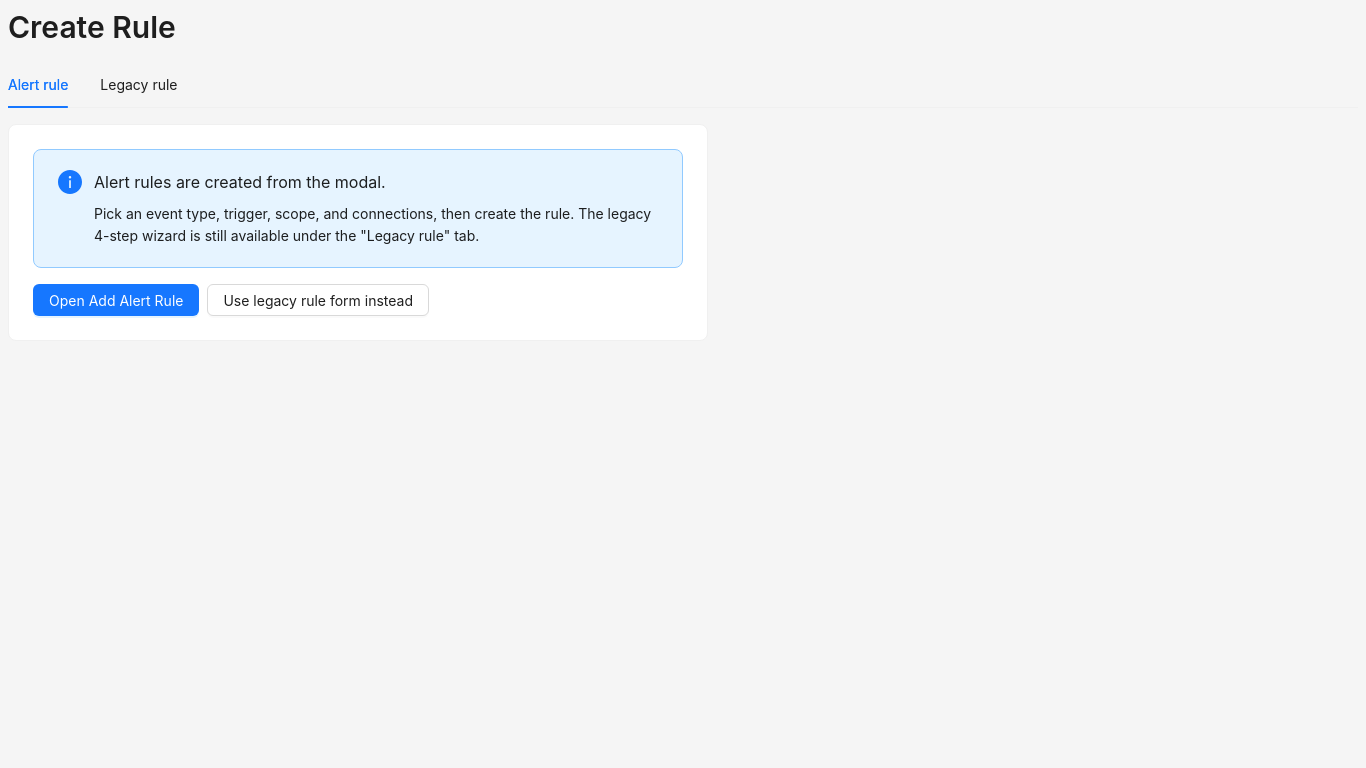
Test: RuleEditor › renders Next button on first step of the legacy wizard
Click the tab "Legacy rule".
click(139, 85)  # box x1=100 y1=74 x2=178 y2=96
(page scrolled)
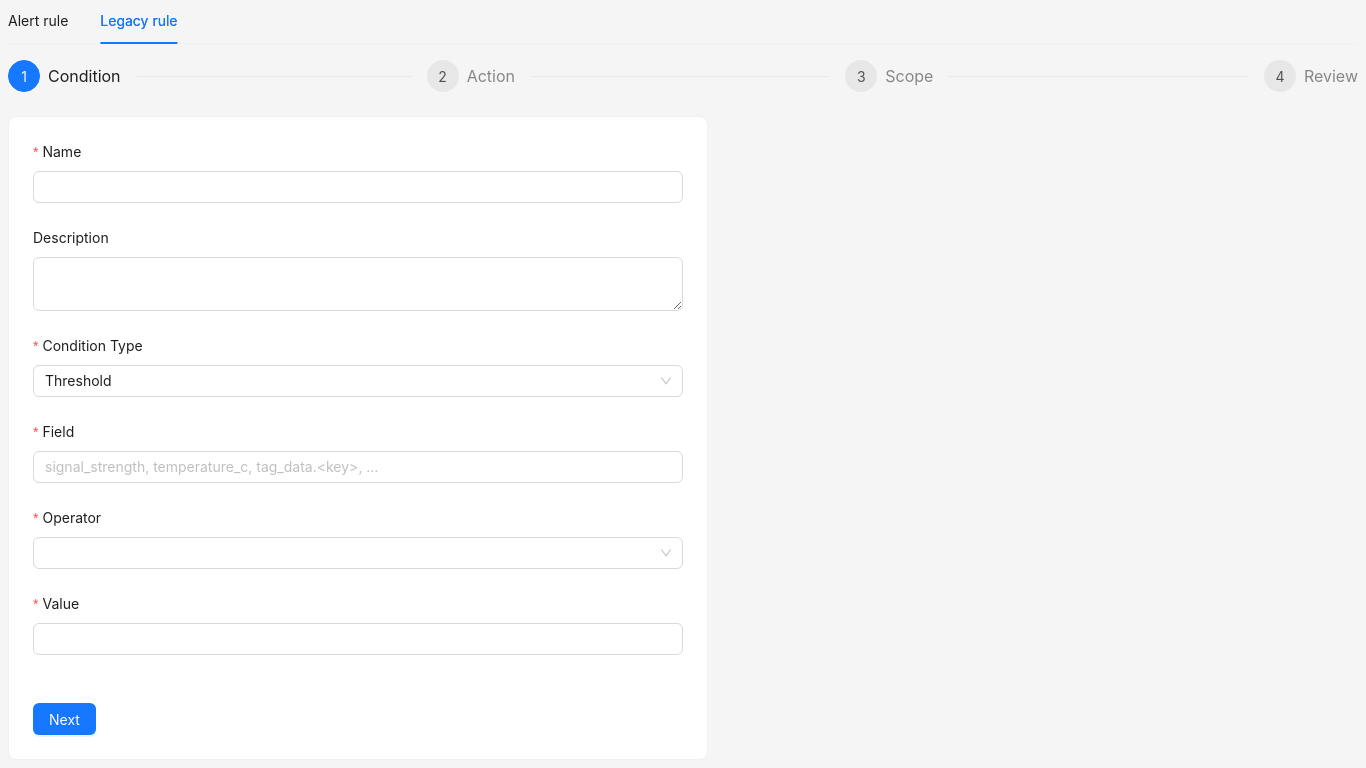
Expected: the text "Next" is shown, x1=49 y1=710 x2=80 y2=728
